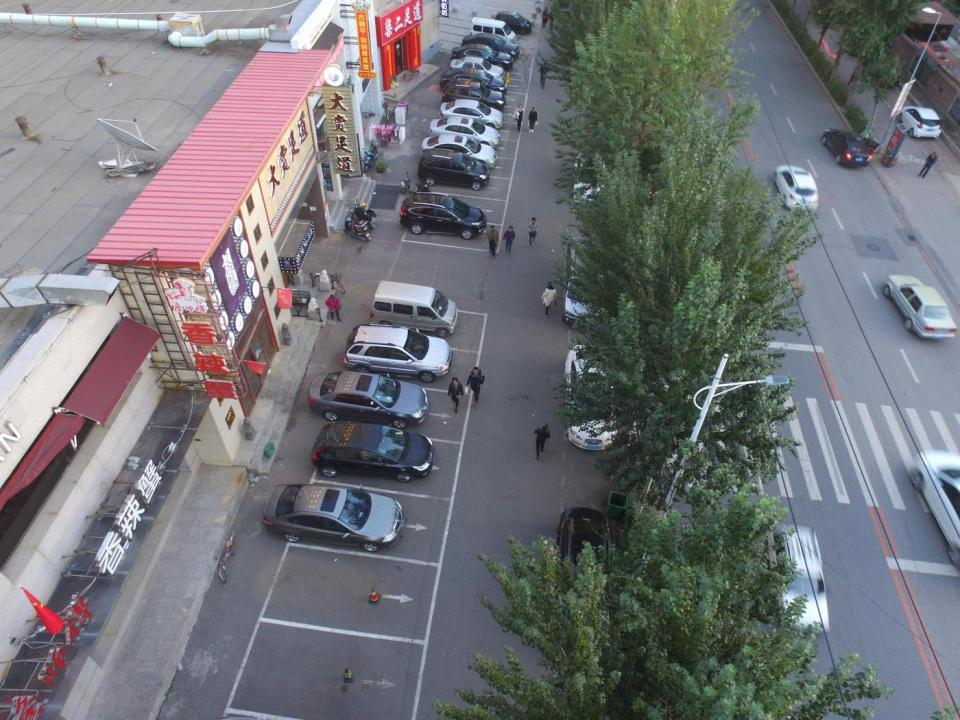car: (548, 505, 621, 654), (260, 480, 405, 549), (307, 367, 429, 430), (314, 422, 436, 481), (343, 325, 453, 385), (564, 340, 619, 456), (558, 232, 619, 326), (883, 271, 955, 341), (396, 190, 490, 241), (419, 149, 491, 192), (822, 116, 877, 170), (420, 135, 497, 172), (770, 158, 822, 212), (568, 141, 610, 207), (428, 116, 502, 152), (860, 38, 902, 90), (439, 99, 503, 131), (442, 80, 508, 111), (894, 100, 942, 140), (449, 45, 514, 71), (440, 70, 508, 94), (450, 56, 506, 84), (462, 33, 520, 59), (498, 11, 533, 36)
van: (369, 279, 457, 339), (470, 16, 517, 48)
